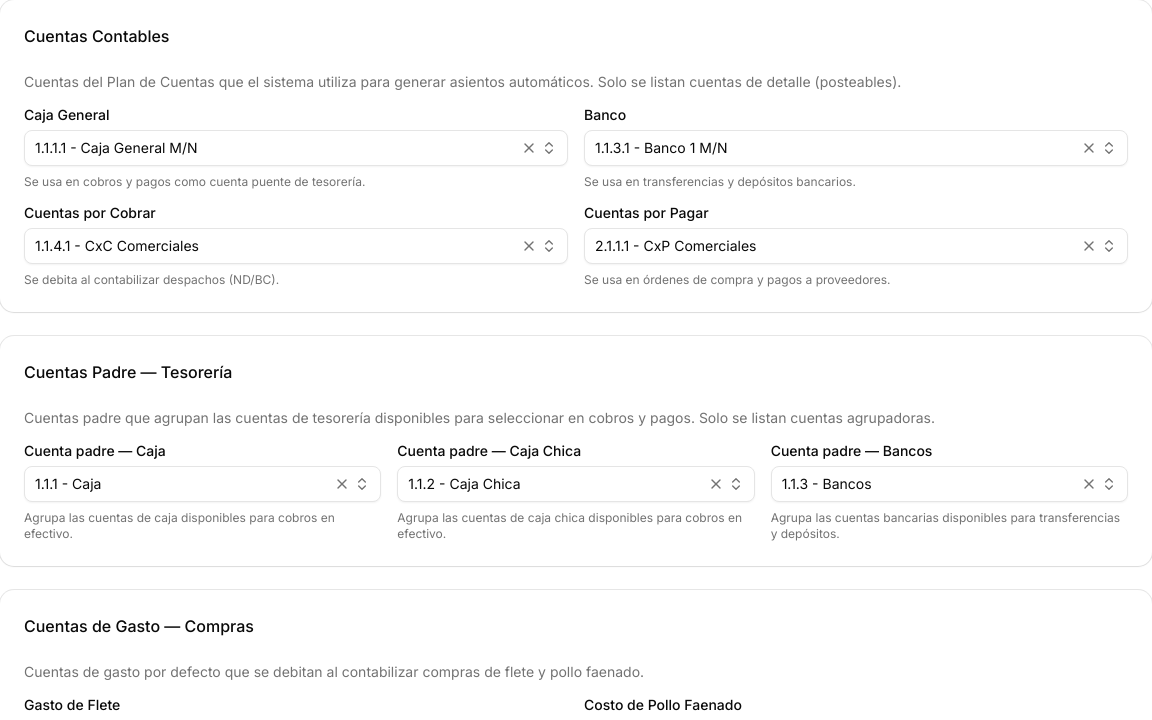
Scenario: OrgSettingsForm — account combobox-with-search › banco popover lists only detail accounts — parent accounts excluded
The image size is (1152, 720).
What coordinates should you click on to do the following:
click the dropdown labelled "Banco"
I would click on:
 (661, 148)
Its box is [584,130,1128,166].
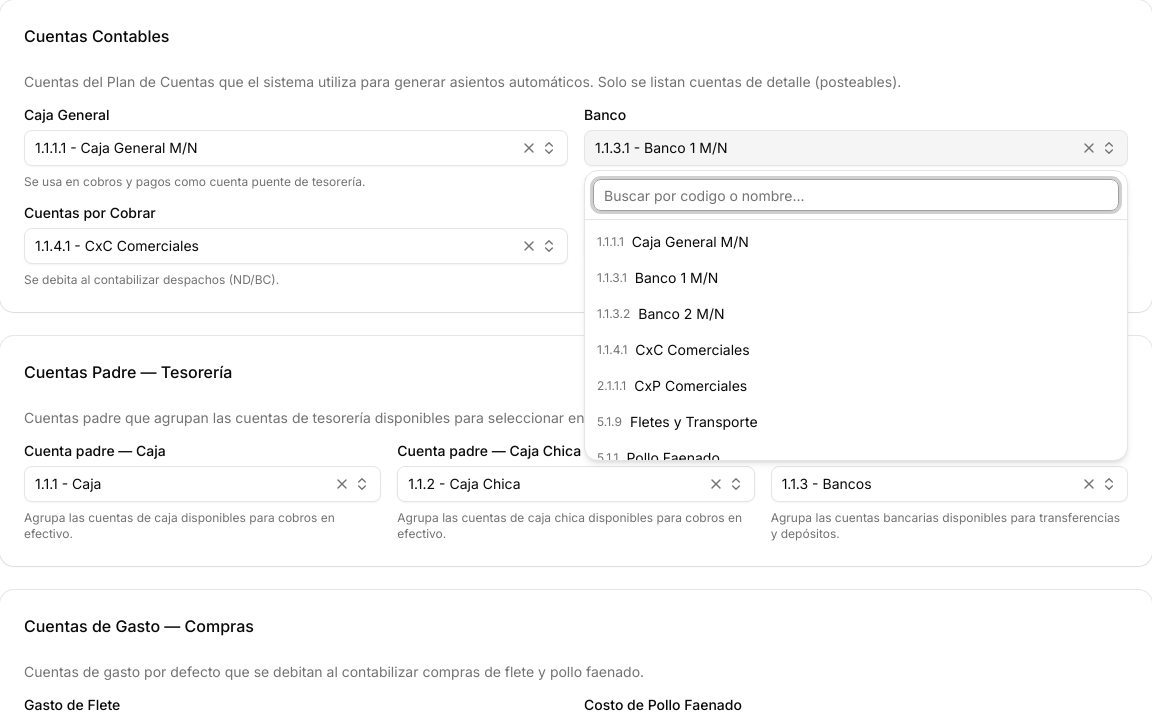
Result: the text "Banco 2 M/N" is shown at [638,304,724,324]
